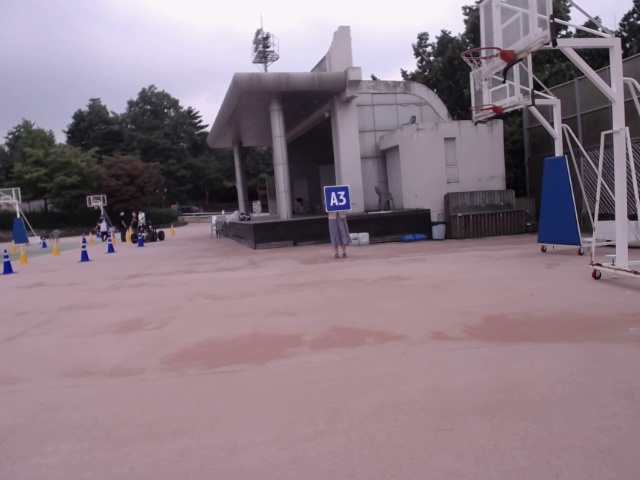delivery_a3: (324, 185, 352, 212)
